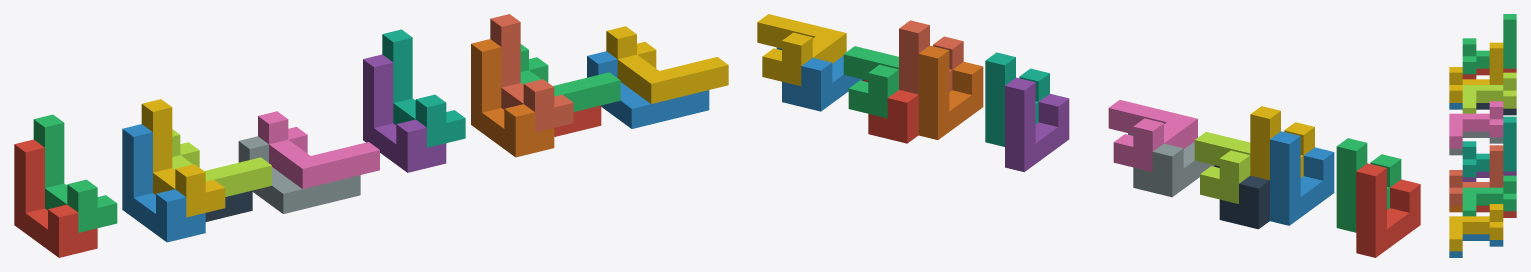
File: tiling.obj
3 renders of one model, left to right at view 1: azimuth 30°, elevation 25°; view 2: azimuth 150°, elevation 25°; view 3: azimuth 270°, elevation 25°, orthographic. The views are drawn at different scales.
Visible parts, largest first — view 1: copy_1_domain_2, copy_1_domain_1, copy_1_domain_6, copy_1_domain_5, copy_2_domain_8, copy_2_domain_4, copy_1_domain_3, copy_1_domain_4, copy_1_domain_7, copy_1_domain_8, copy_2_domain_6, copy_2_domain_2 (+4 smaller); view 2: copy_1_domain_6, copy_1_domain_2, copy_1_domain_5, copy_1_domain_1, copy_2_domain_8, copy_2_domain_4, copy_2_domain_3, copy_2_domain_7, copy_1_domain_3, copy_1_domain_7, copy_2_domain_2, copy_2_domain_6 (+4 smaller); view 3: copy_1_domain_7, copy_1_domain_3, copy_2_domain_4, copy_2_domain_8, copy_2_domain_7, copy_2_domain_3, copy_1_domain_8, copy_1_domain_4, copy_2_domain_2, copy_2_domain_6, copy_1_domain_1, copy_1_domain_5 (+4 smaller).
Boxes of the visible parts, left/top/right/bottom form: copy_1_domain_2: left=122, top=124, right=205, bottom=242; copy_1_domain_1: left=14, top=139, right=97, bottom=257; copy_1_domain_6: left=471, top=39, right=554, bottom=157; copy_1_domain_5: left=363, top=54, right=446, bottom=172; copy_2_domain_8: left=606, top=26, right=728, bottom=103; copy_2_domain_4: left=258, top=111, right=379, bottom=188; copy_1_domain_3: left=33, top=114, right=117, bottom=232; copy_1_domain_4: left=141, top=99, right=225, bottom=217; copy_1_domain_7: left=382, top=29, right=465, bottom=147; copy_1_domain_8: left=490, top=14, right=573, bottom=132; copy_2_domain_6: left=587, top=51, right=709, bottom=128; copy_2_domain_2: left=238, top=136, right=360, bottom=213; copy_1_domain_6: left=918, top=45, right=983, bottom=139; copy_1_domain_2: left=1270, top=131, right=1334, bottom=225; copy_1_domain_5: left=1005, top=77, right=1069, bottom=172; copy_1_domain_1: left=1356, top=163, right=1420, bottom=257; copy_2_domain_8: left=757, top=14, right=846, bottom=86; copy_2_domain_4: left=1108, top=100, right=1197, bottom=171; copy_2_domain_3: left=1194, top=132, right=1250, bottom=203; copy_2_domain_7: left=843, top=46, right=898, bottom=118; copy_1_domain_3: left=1336, top=138, right=1401, bottom=232; copy_1_domain_7: left=985, top=52, right=1049, bottom=146; copy_2_domain_2: left=1128, top=133, right=1214, bottom=197; copy_2_domain_6: left=776, top=47, right=862, bottom=111; copy_1_domain_7: left=1462, top=116, right=1516, bottom=177; copy_1_domain_3: left=1462, top=14, right=1516, bottom=74; copy_2_domain_4: left=1449, top=101, right=1503, bottom=148; copy_2_domain_8: left=1449, top=204, right=1503, bottom=251; copy_2_domain_7: left=1462, top=175, right=1516, bottom=216; copy_2_domain_3: left=1462, top=72, right=1516, bottom=113; copy_1_domain_8: left=1449, top=145, right=1503, bottom=205; copy_1_domain_4: left=1449, top=42, right=1503, bottom=102; copy_2_domain_2: left=1449, top=131, right=1503, bottom=155; copy_2_domain_6: left=1449, top=234, right=1503, bottom=257; copy_1_domain_1: left=1462, top=68, right=1516, bottom=79; copy_1_domain_5: left=1462, top=171, right=1516, bottom=181.
Size of the model in its own units: 34 by 5 by 5.
